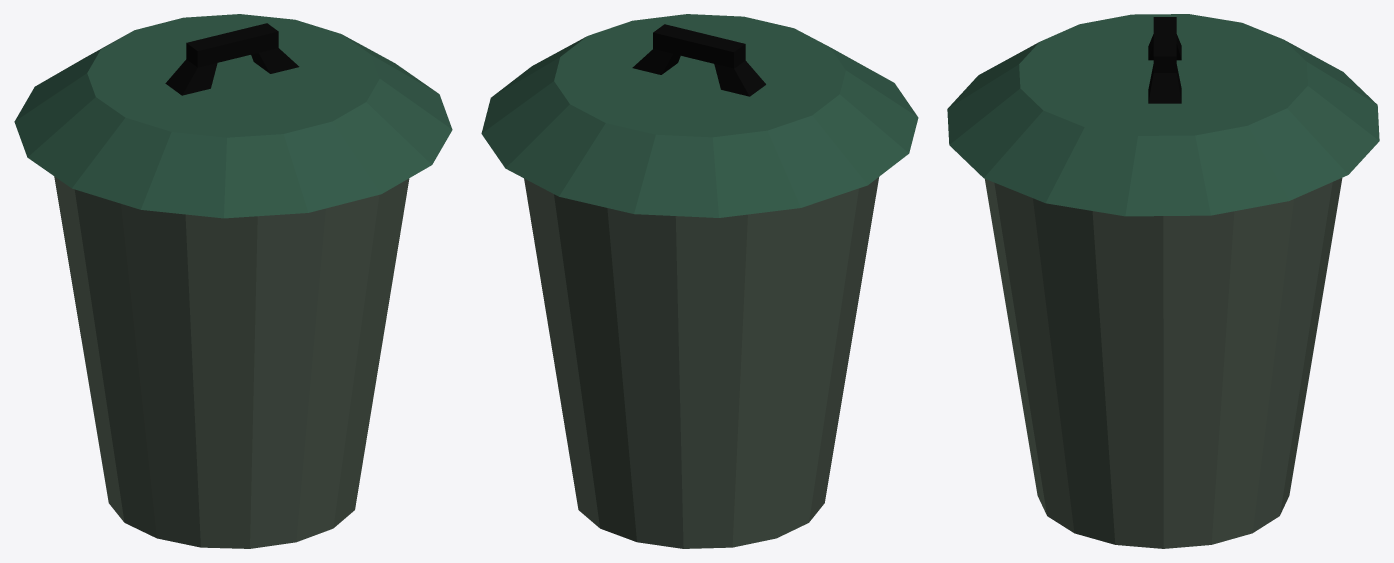
Rendered from trashcan.fbx.
3 views of the same model, side by side, from view 1: azimuth 30°, elevation 25°; view 2: azimuth 150°, elevation 25°; view 3: azimuth 270°, elevation 25° (orthographic).
Visible parts, largest first — view 1: Cylinder.001; view 2: Cylinder.001; view 3: Cylinder.001.
Part boxes in pixels (<box>): Cylinder.001: <box>14,14,452,548</box>; Cylinder.001: <box>481,14,918,548</box>; Cylinder.001: <box>947,14,1379,548</box>.
Bounding box in the file's own units: 209 × 244 × 209.
